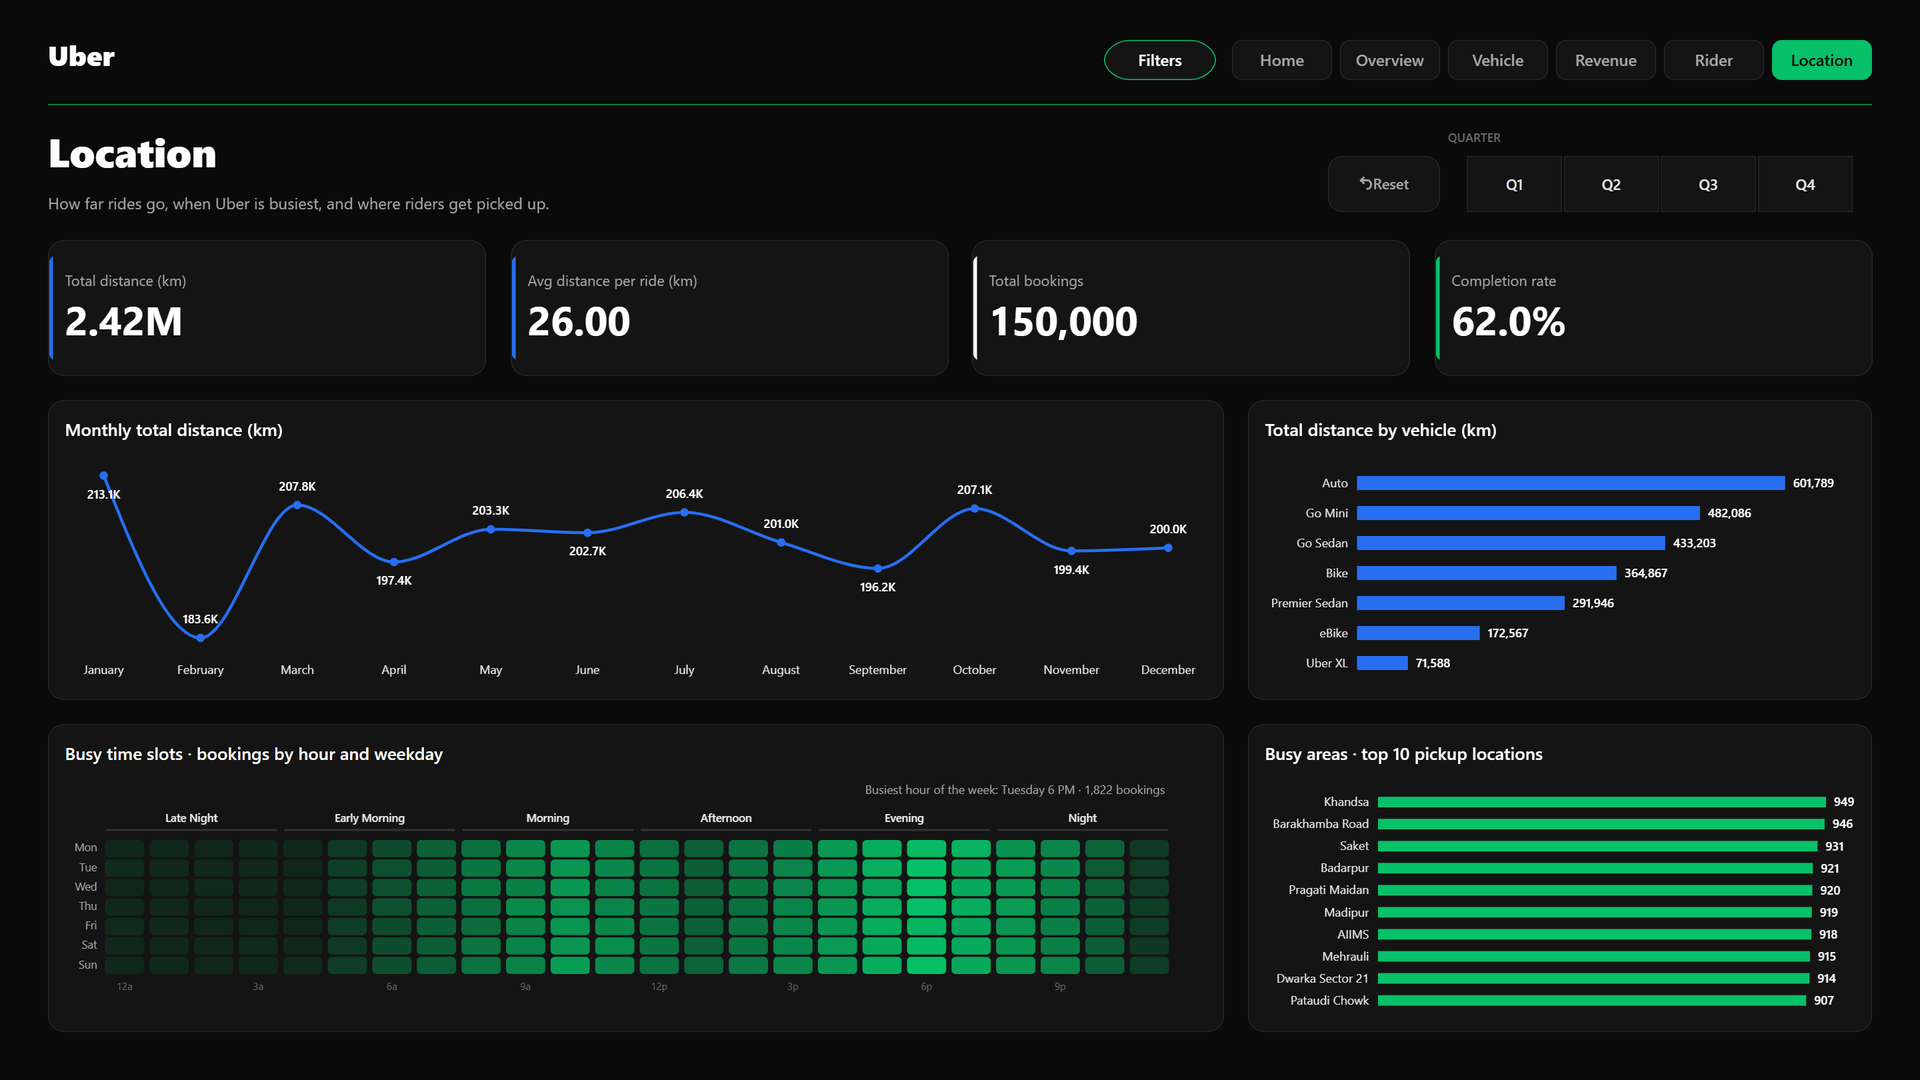

Layout of this report page (visuals, bound fields, positions):
{"tool":"powerbi","page":{"name":"Location","canvas":[1920,1080],"ordinal":5},"visuals":[{"type":"textbox","box":[48,36,200,48],"z":100},{"type":"actionButton","box":[1232,40,100,40],"z":200},{"type":"actionButton","box":[1340,40,100,40],"z":300},{"type":"actionButton","box":[1448,40,100,40],"z":400},{"type":"actionButton","box":[1556,40,100,40],"z":500},{"type":"actionButton","box":[1664,40,100,40],"z":600},{"type":"actionButton","box":[1772,40,100,40],"z":700},{"type":"shape","box":[48,104,1824,1],"z":800},{"type":"textbox","box":[48,124,640,68],"z":900},{"type":"textbox","box":[48,192,640,28],"z":1000},{"type":"actionButton","box":[1328,156,112,56],"z":1100},{"type":"textbox","box":[1448,128,300,24],"z":1200},{"type":"slicer","fields":{"Values":["Dim_Date.Quarter"]},"box":[1448,156,424,56],"z":1300},{"type":"cardVisual","fields":{"Data":["# Measures.Total Distance"]},"box":[48,240,438,136],"z":1400},{"type":"cardVisual","fields":{"Data":["# Measures.Avg Distance"]},"box":[510,240,438,136],"z":1401},{"type":"cardVisual","fields":{"Data":["# Measures.Total Bookings"]},"box":[972,240,438,136],"z":1402},{"type":"cardVisual","fields":{"Data":["# Measures.Completion Rate %"]},"box":[1434,240,438,136],"z":1403},{"type":"lineChart","title":"Monthly total distance (km)","fields":{"Category":["Dim_Date.Month Name"],"Y":["# Measures.Total Distance"]},"box":[48,400,1176,300],"z":1500},{"type":"clusteredBarChart","title":"Total distance by vehicle (km)","fields":{"Category":["Dim_Vehicle.Vehicle Type"],"Y":["# Measures.Total Distance"]},"box":[1248,400,624,300],"z":1600},{"type":"deneb7E15AEF80B9E4D4F8E12924291ECE89A","title":"Busy time slots  ·  bookings by hour and weekday","fields":{"dataset":["Dim_Time.Hour","Dim_Time.Time Slot","Dim_Time.Slot Order","Dim_Date.Day Name","Dim_Date.Weekday Number","# Measures.Total Bookings"]},"box":[48,724,1176,308],"z":1700},{"type":"clusteredBarChart","title":"Busy areas  ·  top 10 pickup locations","fields":{"Category":["Dim_Location.Location"],"Y":["# Measures.Total Bookings"]},"box":[1248,724,624,308],"z":1800},{"type":"actionButton","box":[1104,40,112,40],"z":90010}]}

Visuals, with their boxes in screenshot pixels (x1, y1, x2, y2), scaled from the page's 1920x1080 canvas onto the 1920x1080 screenshot:
textbox: bbox(48, 36, 248, 84)
actionButton: bbox(1232, 40, 1332, 80)
actionButton: bbox(1340, 40, 1440, 80)
actionButton: bbox(1448, 40, 1548, 80)
actionButton: bbox(1556, 40, 1656, 80)
actionButton: bbox(1664, 40, 1764, 80)
actionButton: bbox(1772, 40, 1872, 80)
shape: bbox(48, 104, 1872, 105)
textbox: bbox(48, 124, 688, 192)
textbox: bbox(48, 192, 688, 220)
actionButton: bbox(1328, 156, 1440, 212)
textbox: bbox(1448, 128, 1748, 152)
slicer - Dim_Date.Quarter: bbox(1448, 156, 1872, 212)
cardVisual - # Measures.Total Distance: bbox(48, 240, 486, 376)
cardVisual - # Measures.Avg Distance: bbox(510, 240, 948, 376)
cardVisual - # Measures.Total Bookings: bbox(972, 240, 1410, 376)
cardVisual - # Measures.Completion Rate %: bbox(1434, 240, 1872, 376)
"Monthly total distance (km)" lineChart: bbox(48, 400, 1224, 700)
"Total distance by vehicle (km)" clusteredBarChart: bbox(1248, 400, 1872, 700)
"Busy time slots  ·  bookings by hour and weekday" deneb7E15AEF80B9E4D4F8E12924291ECE89A: bbox(48, 724, 1224, 1032)
"Busy areas  ·  top 10 pickup locations" clusteredBarChart: bbox(1248, 724, 1872, 1032)
actionButton: bbox(1104, 40, 1216, 80)
